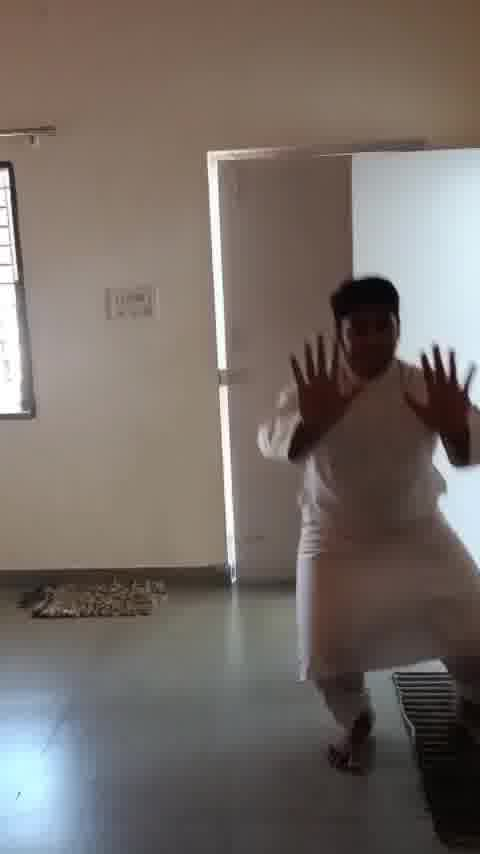duck: (258, 279, 480, 782)
